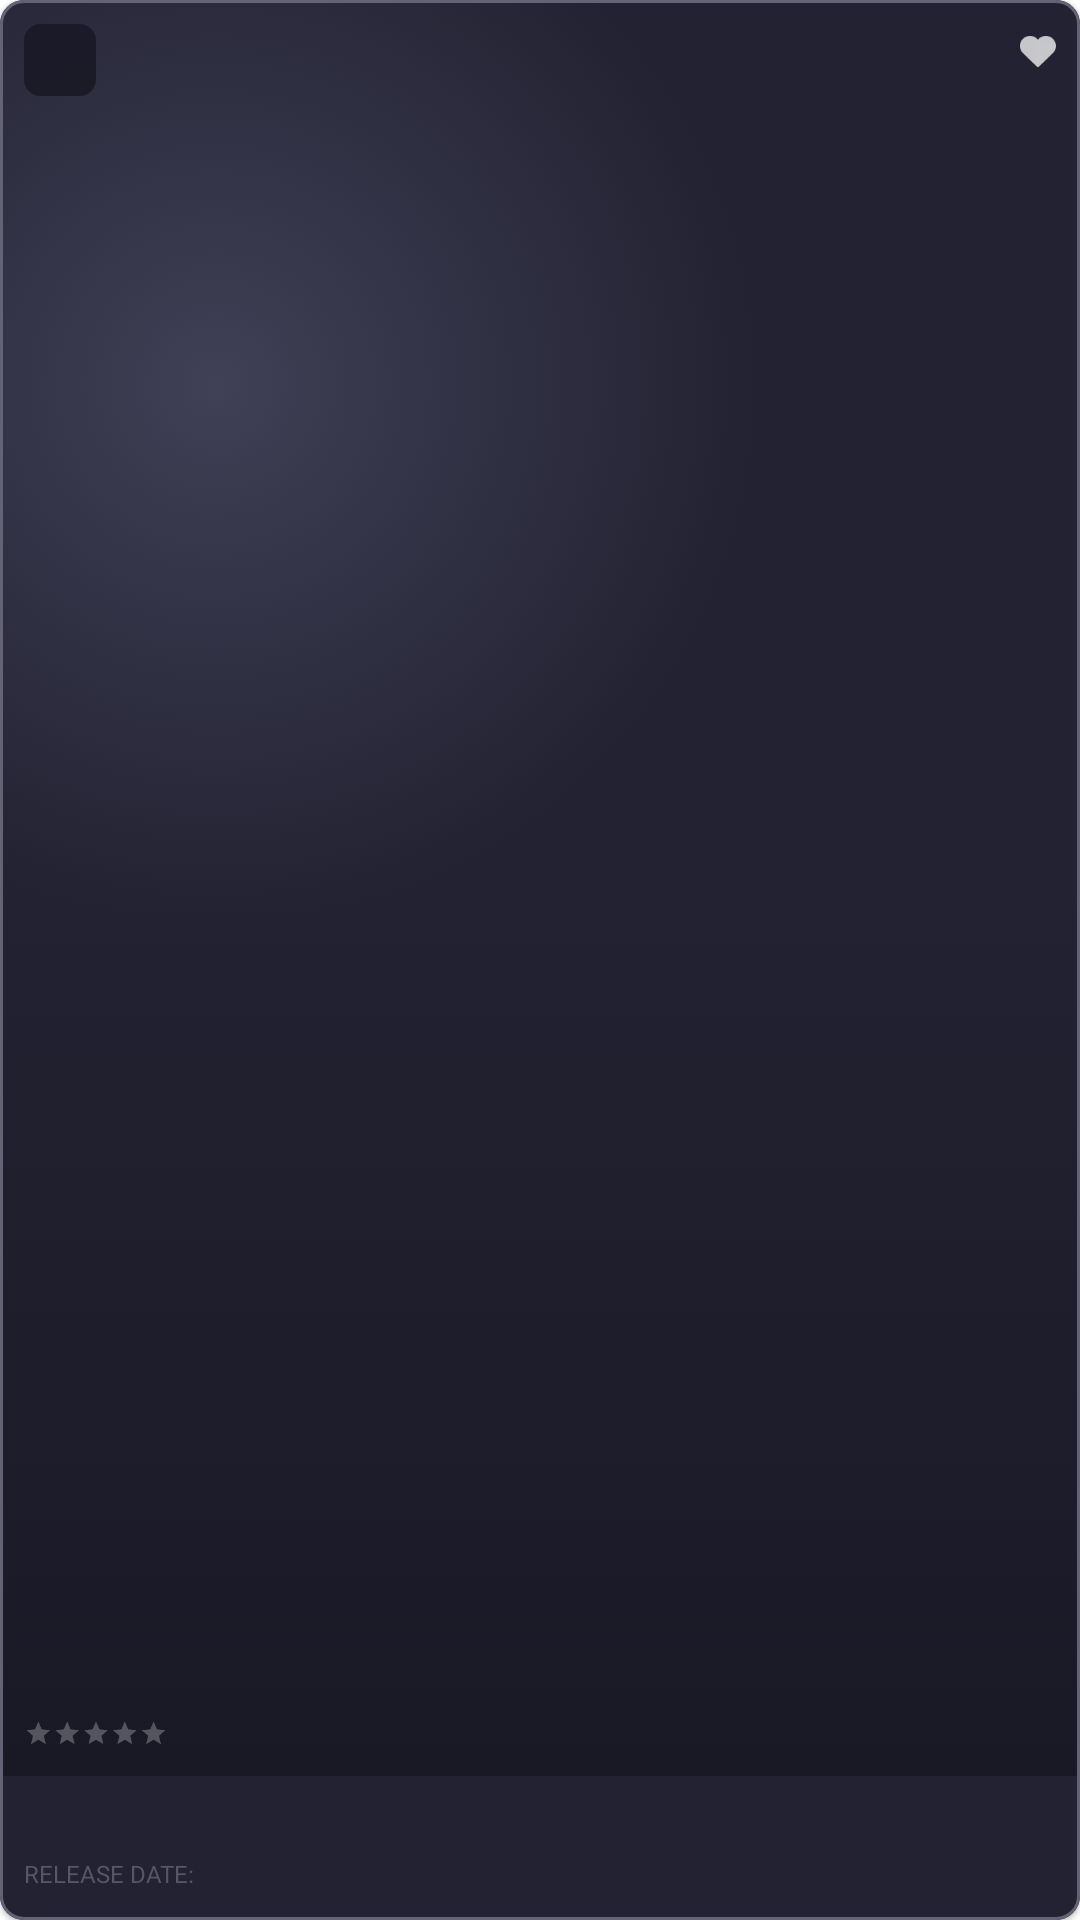

Named icons in this screenshot (1080*1920) and their centers, point (x, y):
heart like: point (1038, 51)
